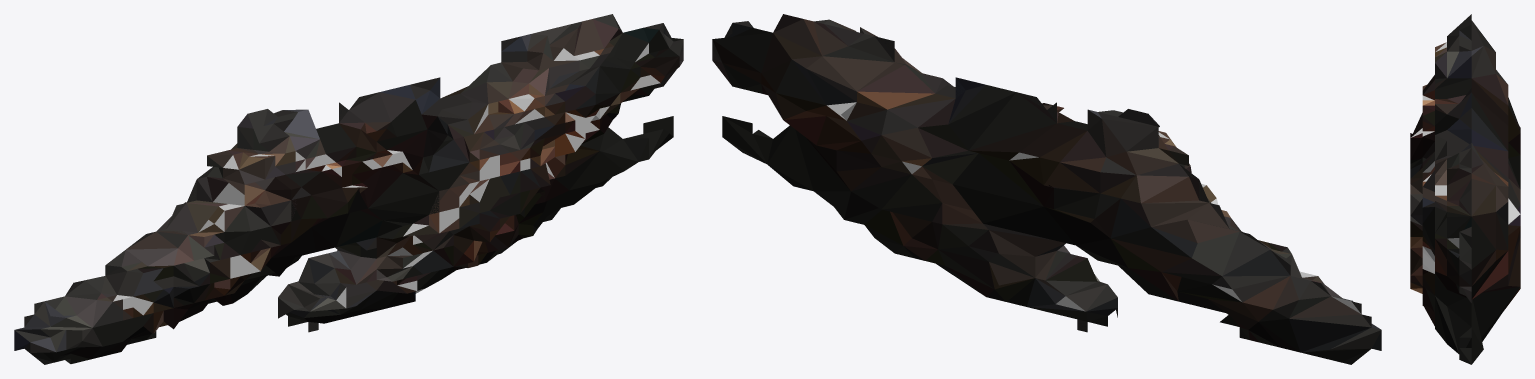
File: B06_3_magma_gauntlets.obj
3 renders of one model, left to right at view 1: azimuth 30°, elevation 25°; view 2: azimuth 150°, elevation 25°; view 3: azimuth 270°, elevation 25°, orthographic. The views are drawn at different scales.
Parts seen in each view (by area): view 1: B06_3_magma_gauntlets; view 2: B06_3_magma_gauntlets; view 3: B06_3_magma_gauntlets.
Part boxes in pixels (x1,y1,x2,y2): B06_3_magma_gauntlets: [14, 14, 683, 364]; B06_3_magma_gauntlets: [712, 14, 1381, 364]; B06_3_magma_gauntlets: [1410, 14, 1520, 364].
Bounding box in the file's own units: 66 × 23 × 9.
